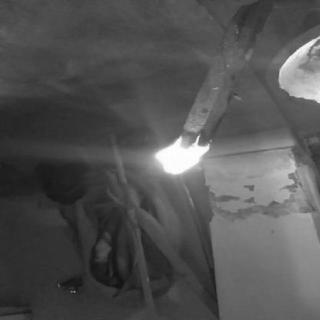Fire: (149, 129, 227, 183)
